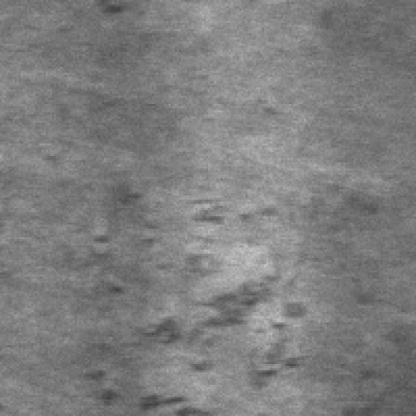rolled-in_scale: (92, 187, 352, 385), (77, 366, 318, 414)
